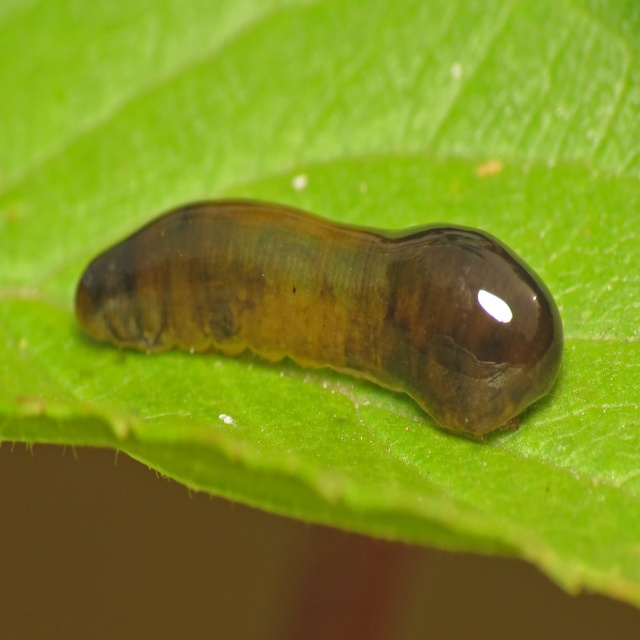Caterpillar: (76, 201, 568, 437)
